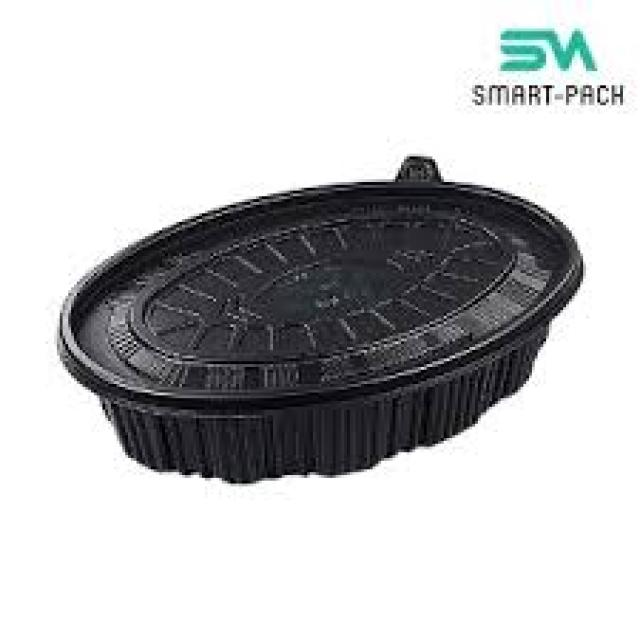disposable: (55, 136, 600, 500)
